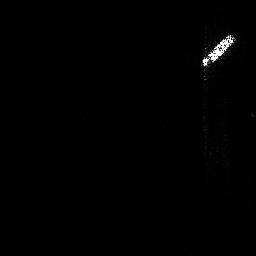ship: (202, 32, 234, 68)
